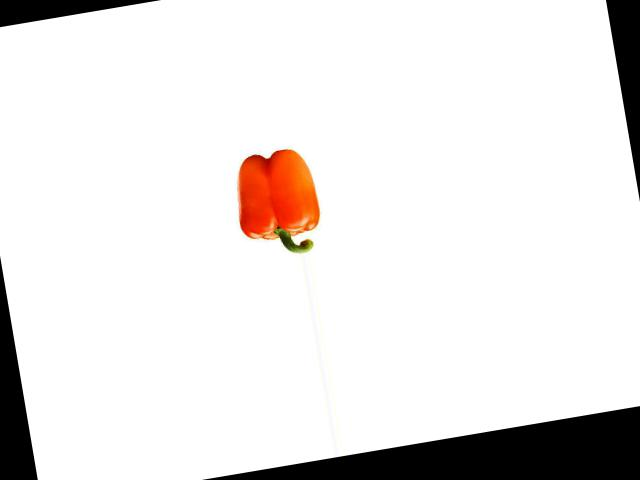bell_pepper: (221, 143, 334, 263)
